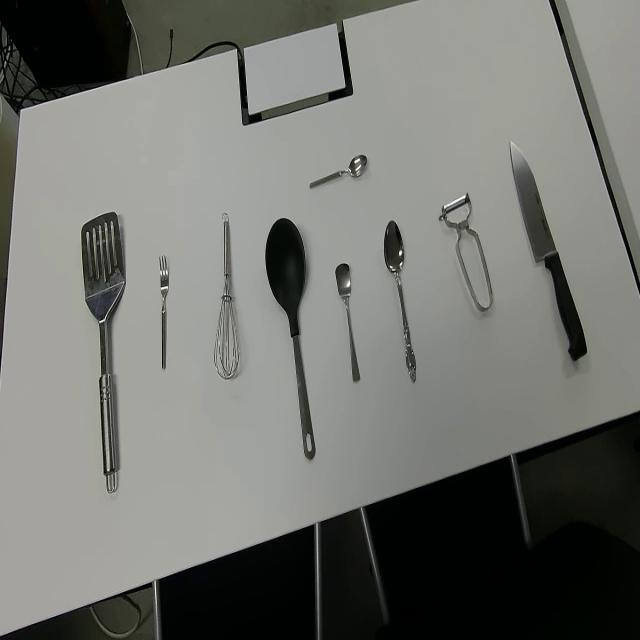Desert-Spoon: (383, 218, 418, 383)
Dinner-Fork: (158, 254, 170, 373)
Kitchen-Knife: (509, 138, 588, 364)
Peeler: (438, 191, 494, 313)
Serving-Spoon: (80, 209, 126, 495), (265, 217, 317, 461)
Tea-Spoon: (334, 261, 360, 384), (309, 150, 368, 191)
Whisk: (213, 212, 240, 380)
